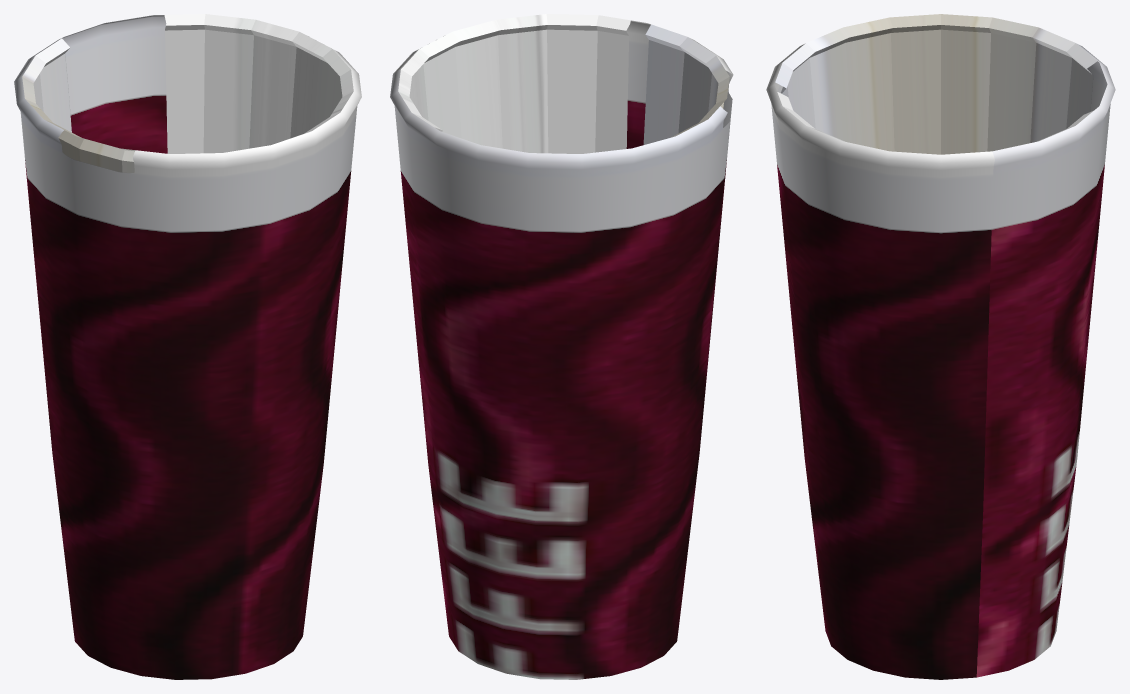
3 views of the same model, side by side, from view 1: azimuth 30°, elevation 25°; view 2: azimuth 150°, elevation 25°; view 3: azimuth 270°, elevation 25° (orthographic).
Parts seen in each view (by area): view 1: Default; view 2: Default; view 3: Default.
Part boxes in pixels (x1,y1,x2,y2): Default: [14, 14, 361, 679]; Default: [390, 14, 733, 679]; Default: [766, 14, 1115, 679].
Bounding box in the file's own units: 5.2 × 8.98 × 5.2.
1 material, 1 textured.
